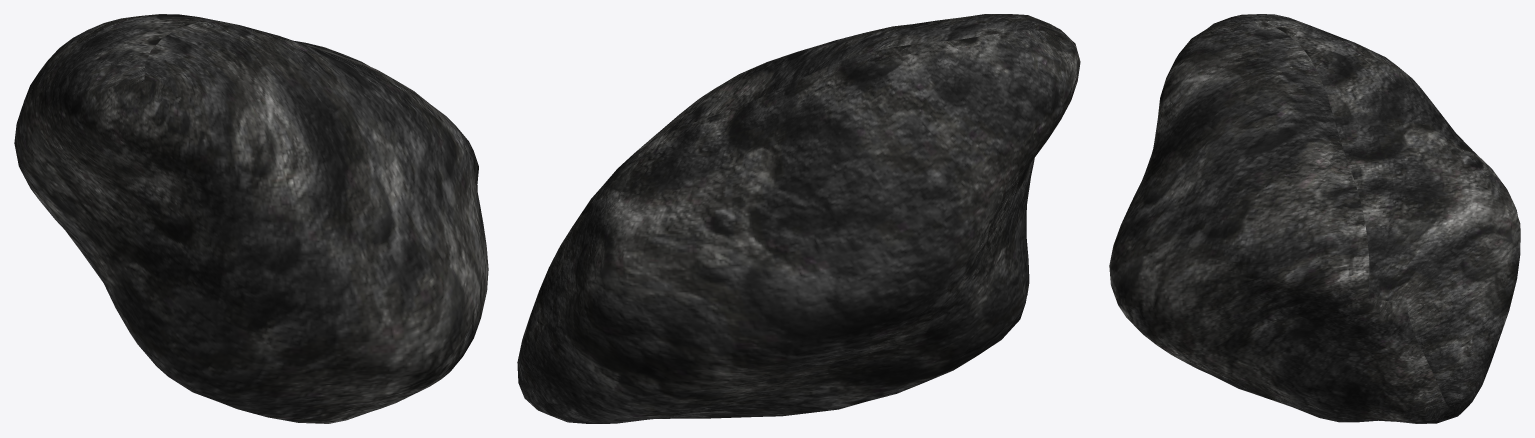
Rendered from Single_asteroid_Medium_2.fbx.
3 views of the same model, side by side, from view 1: azimuth 30°, elevation 25°; view 2: azimuth 150°, elevation 25°; view 3: azimuth 270°, elevation 25° (orthographic). The views are drawn at different scales.
Parts seen in each view (by area): view 1: Med2; view 2: Med2; view 3: Med2.
Boxes of the visible parts, bbox=[...] form: Med2: bbox=[14, 14, 488, 423]; Med2: bbox=[517, 14, 1080, 423]; Med2: bbox=[1109, 14, 1520, 423].
Bounding box in the file's own units: 0.2164 × 0.1936 × 0.2386.
Materials: 1 (1 with a texture image).
